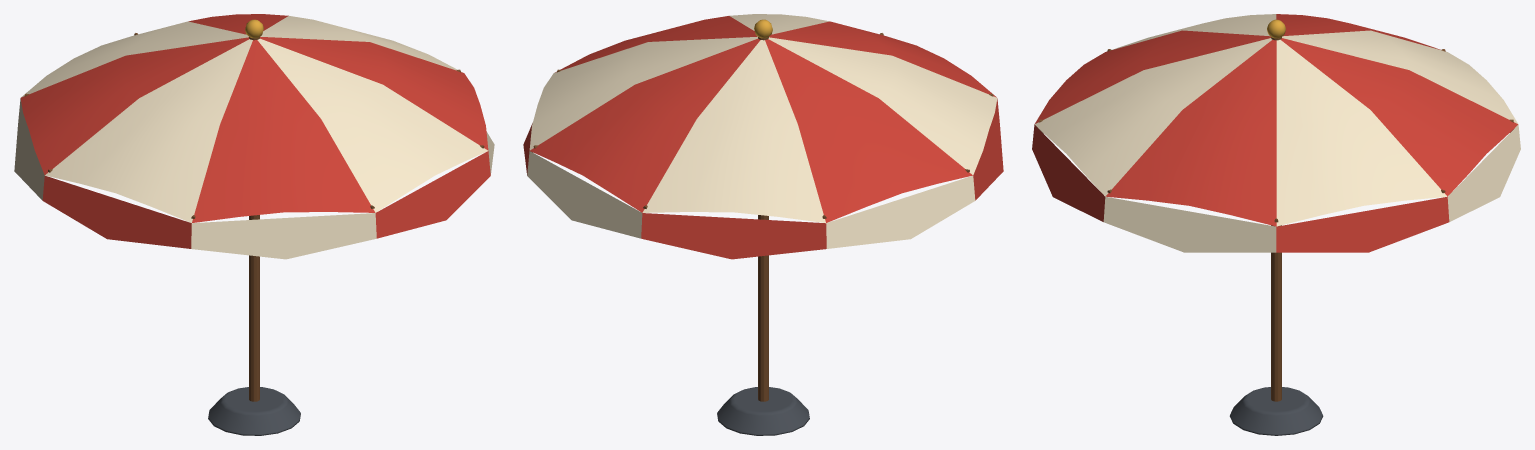
The model's file is mk_parasol_red.glb.
3 views of the same model, side by side, from view 1: azimuth 30°, elevation 25°; view 2: azimuth 150°, elevation 25°; view 3: azimuth 270°, elevation 25° (orthographic).
Parts seen in each view (by area): view 1: mk_parasol_red_body; view 2: mk_parasol_red_body; view 3: mk_parasol_red_body.
Part boxes in pixels (x1,y1,x2,y2): mk_parasol_red_body: [14, 14, 494, 435]; mk_parasol_red_body: [523, 14, 1003, 435]; mk_parasol_red_body: [1032, 14, 1520, 435].
Bounding box in the file's own units: 3.03 × 2.71 × 3.03.
